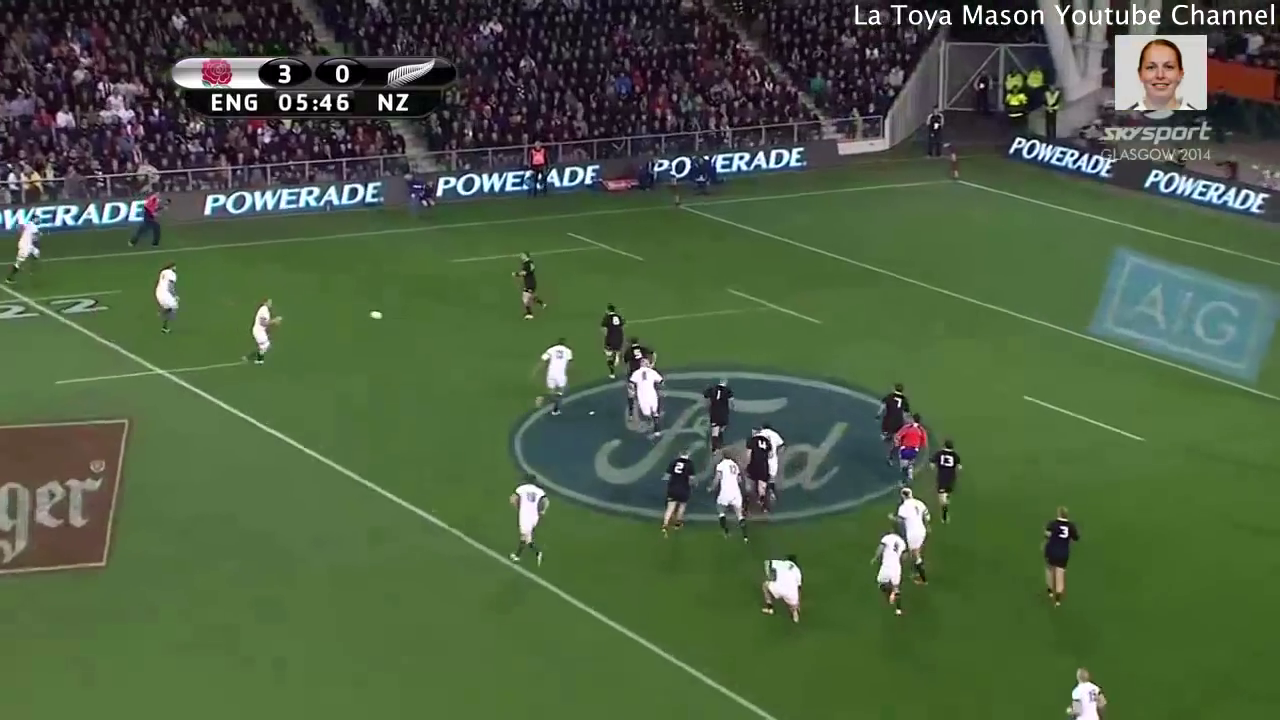ball: (362, 303, 390, 327)
player: (497, 462, 558, 580), (918, 428, 977, 535), (884, 479, 940, 591), (1030, 496, 1079, 610), (705, 443, 754, 551), (230, 288, 291, 372), (529, 328, 578, 428), (867, 517, 913, 621), (653, 445, 699, 546), (754, 541, 806, 625), (505, 239, 554, 327), (146, 255, 193, 346), (884, 405, 930, 497), (629, 351, 673, 447), (618, 333, 665, 418), (4, 208, 52, 288), (735, 422, 774, 519), (871, 375, 911, 469), (591, 295, 630, 388), (696, 371, 739, 455), (1051, 660, 1111, 720), (753, 415, 786, 509)
